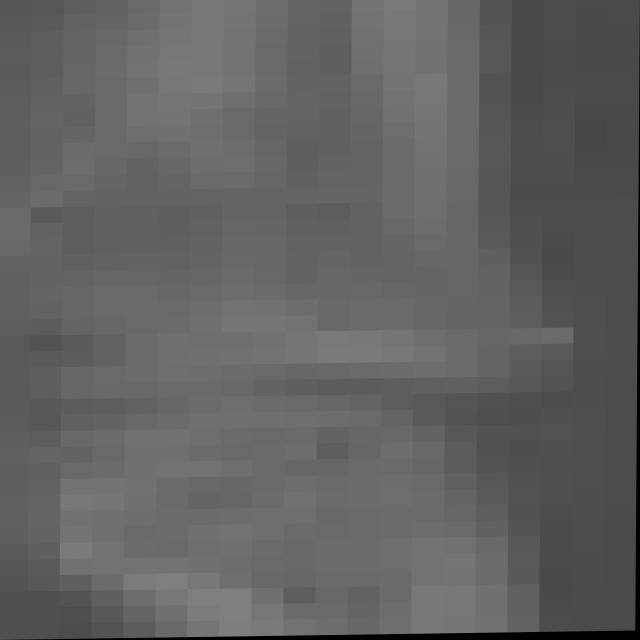fracture: (0, 11, 637, 640)
